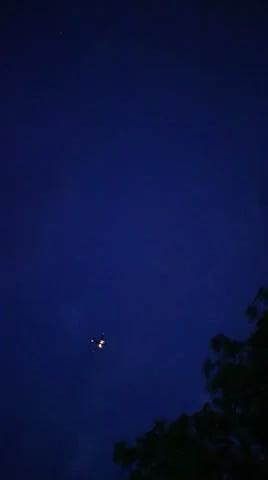Plane: (83, 328, 112, 357)
